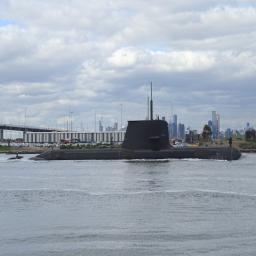submarine: (5, 83, 247, 160)
